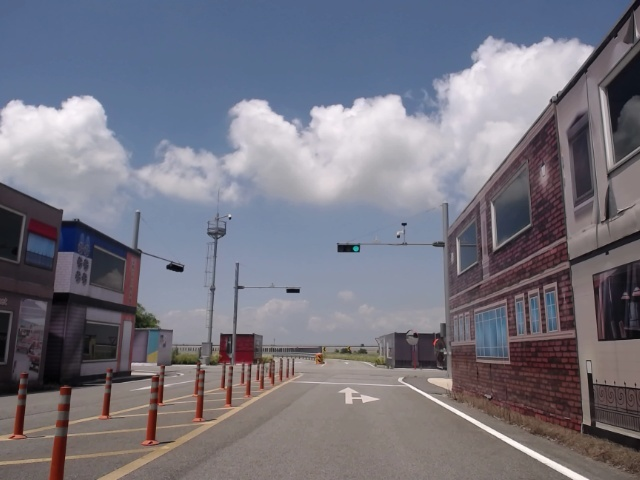green_3: (338, 245, 359, 251)
